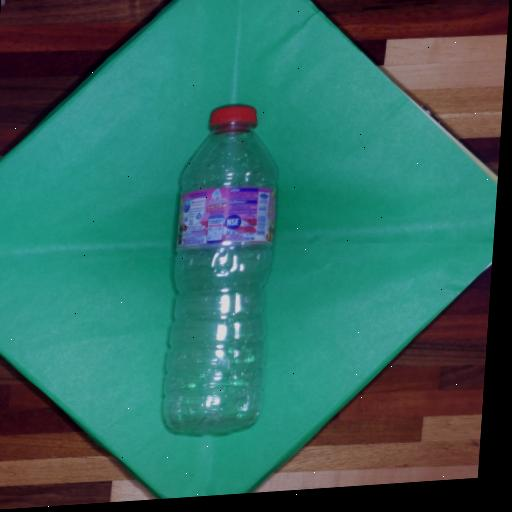bottle: (163, 106, 276, 433)
